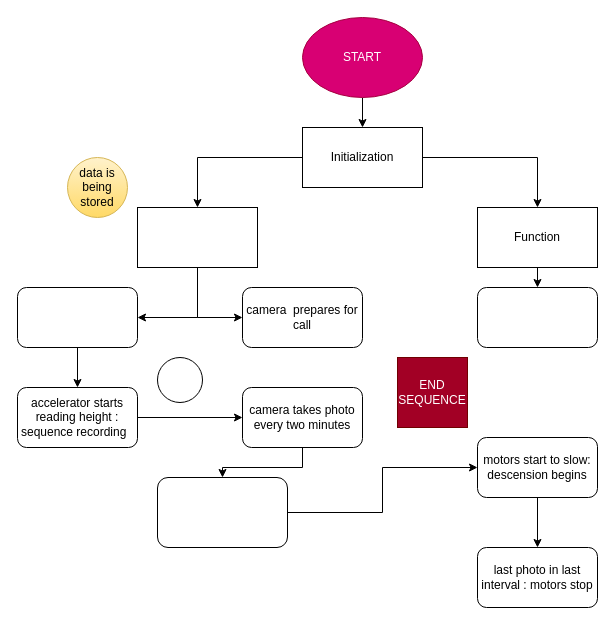
Image size: 615x625. Some labels were removed from this diagram. The centre of each missing label's shape, as x and y in pixels:
"accelerator begins to read position" goes at pixel 77 317.
"camera takes photo at peak height (10p for 20m)" goes at pixel 222 512.
"Data Collection" goes at pixel 197 237.
"motors run at first height interval" goes at pixel 537 317.
"sends call" goes at pixel 179 379.
